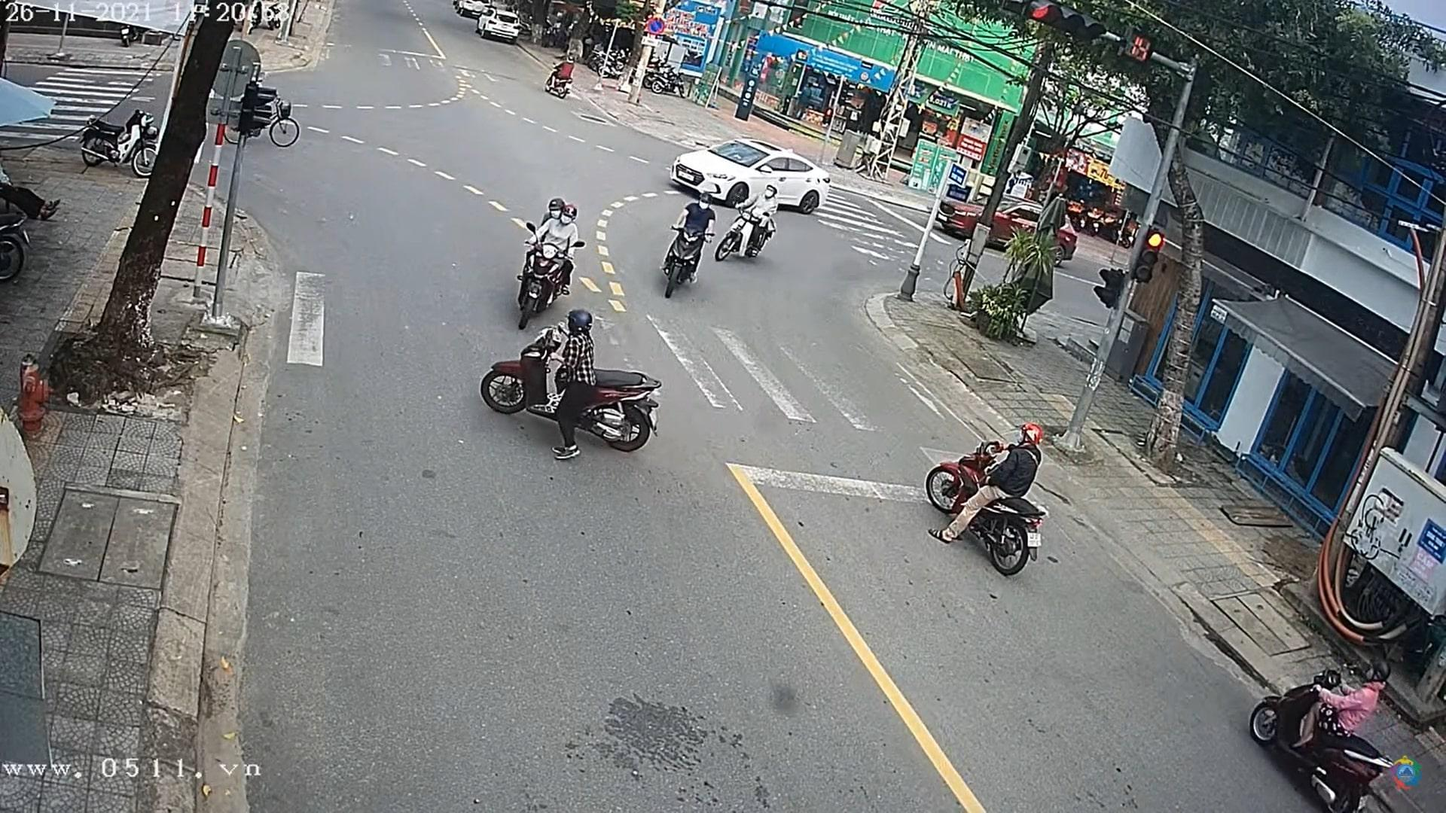car: (669, 139, 831, 215), (452, 2, 493, 20)
motorbike: (490, 328, 665, 459), (1251, 668, 1387, 812), (958, 497, 1046, 577), (514, 232, 570, 333), (710, 204, 776, 261), (657, 227, 707, 296)
